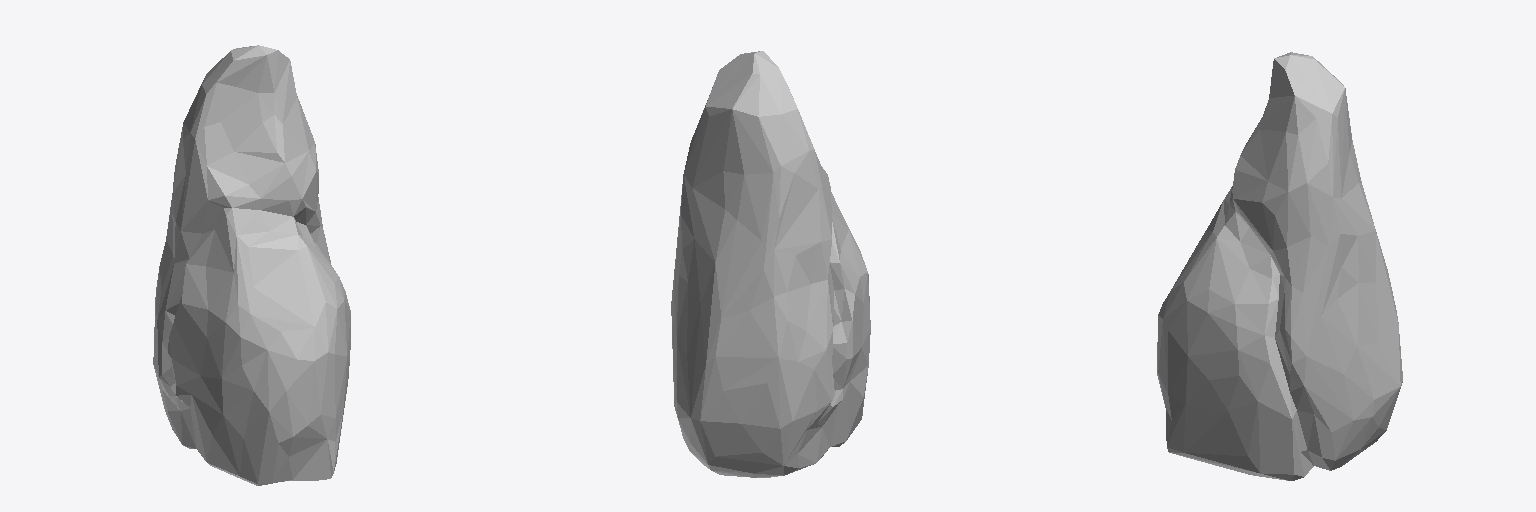
The model's file is M_Rock_02.OBJ.
3 renders of one model, left to right at view 1: azimuth 30°, elevation 25°; view 2: azimuth 150°, elevation 25°; view 3: azimuth 270°, elevation 25°, orthographic.
Visible parts, largest first — view 1: Group62371; view 2: Group62371; view 3: Group62371.
Part boxes in pixels (bbox=[...]): Group62371: bbox=[153, 45, 350, 485]; Group62371: bbox=[671, 51, 870, 477]; Group62371: bbox=[1157, 52, 1402, 480].
Bounding box in the file's own units: 3.45 × 7.98 × 4.35.